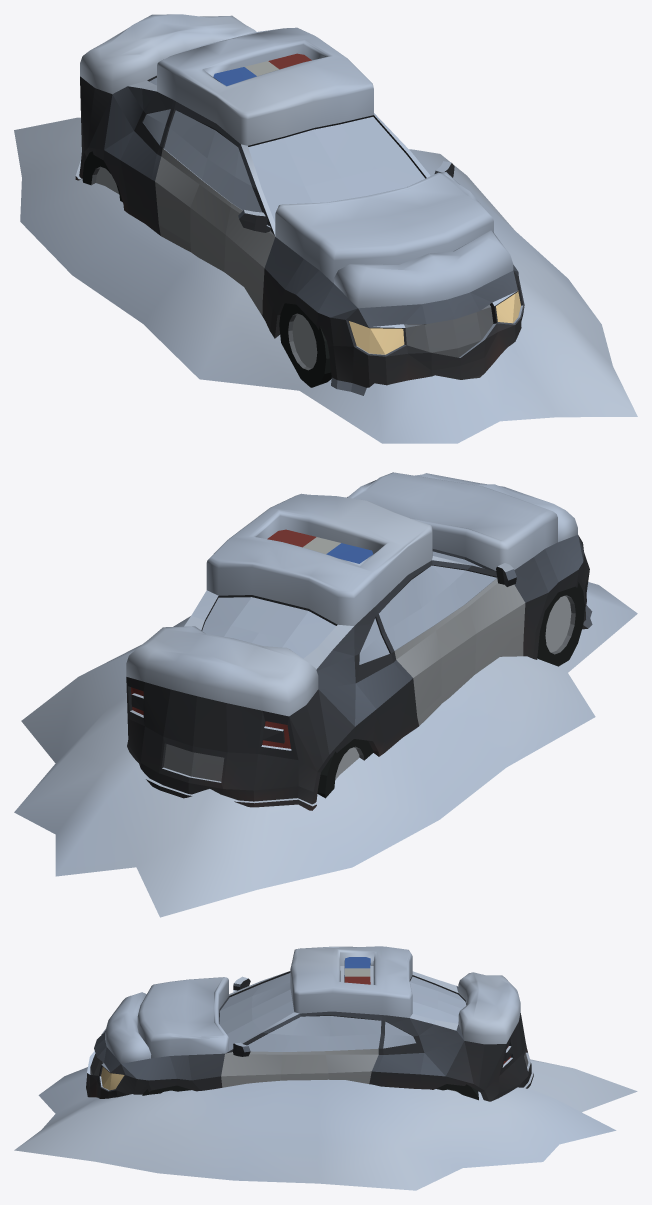
File: police_snowed.glb
The picture shows the model from 3 angles, top to bottom: view 1: azimuth 30°, elevation 25°; view 2: azimuth 150°, elevation 25°; view 3: azimuth 270°, elevation 25°; orthographic projection. The views are drawn at different scales.
Parts seen in each view (by area): view 1: Body; view 2: Body; view 3: Body.
Part boxes in pixels (box(x1,y1,x2,y2)): Body: box(14, 14, 637, 443); Body: box(14, 472, 637, 917); Body: box(14, 946, 637, 1190).
Size of the model in its own units: 3.57 by 1.74 by 6.8.
